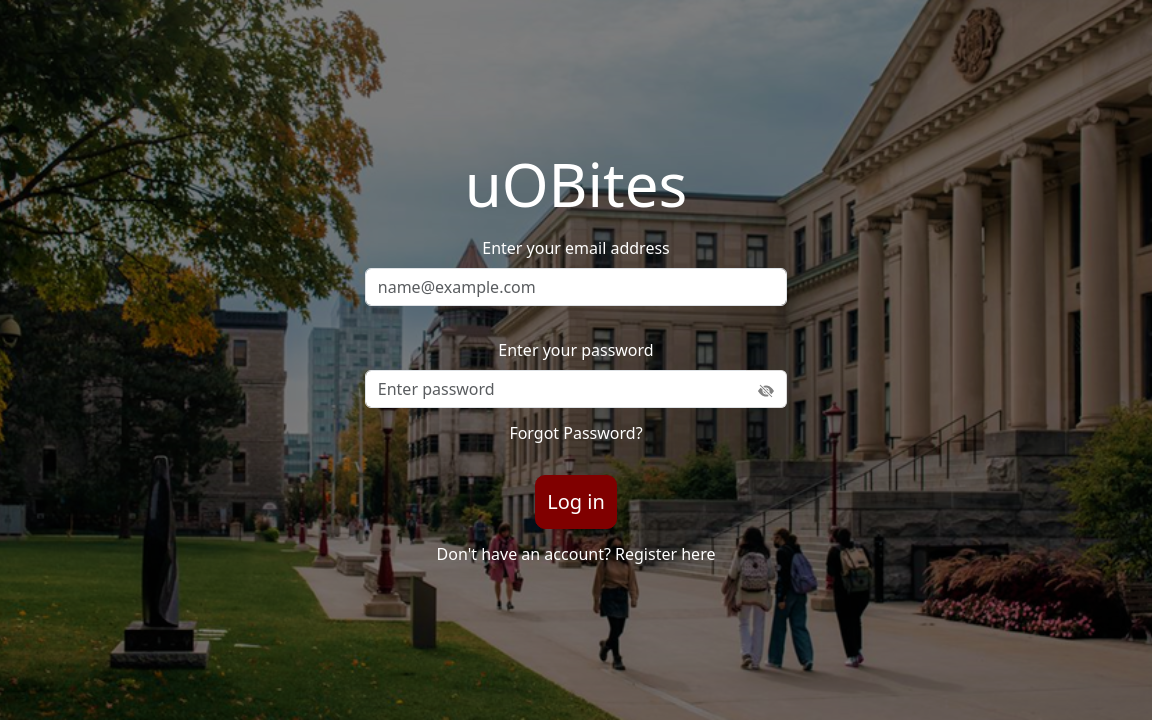
Test: Complete test suite that covers basic authentication functionalities › should click Forgot Password from the login page
Click the heading "Forgot Password?" at (576,434), box [509, 424, 642, 443]
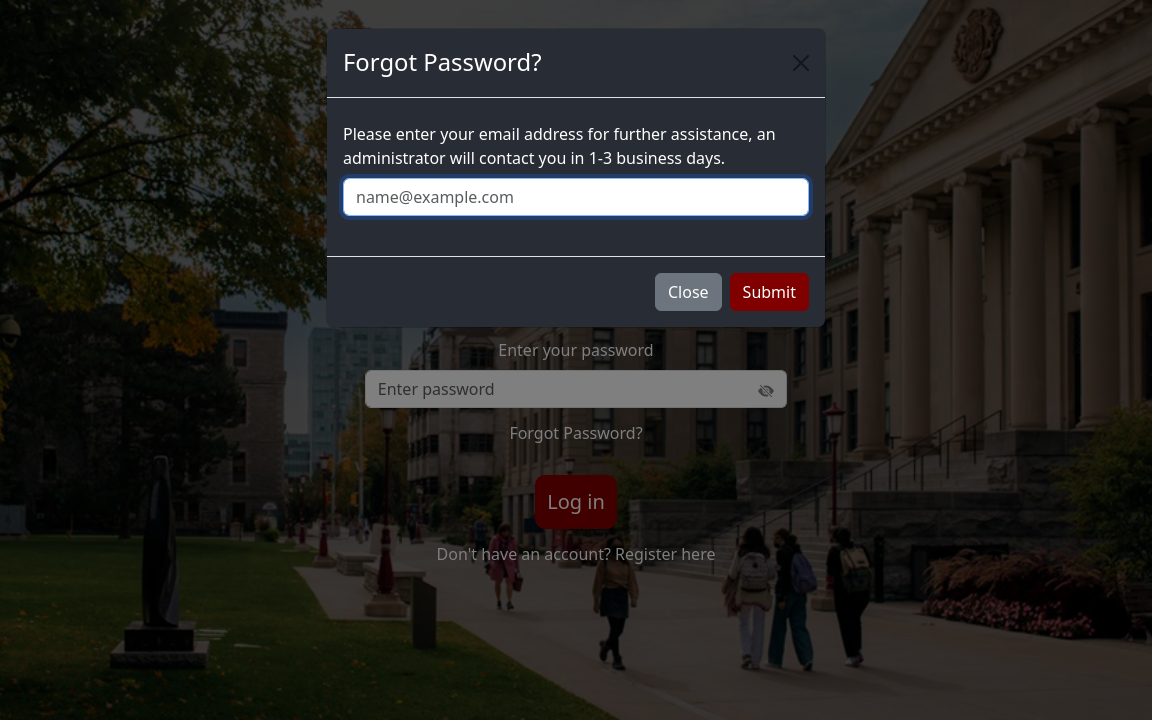
Result: the element that starts with "Forgot Password?" is shown at [326, 28, 826, 328]
Type "fake@gmail.com" into the field with id "modalEmail" at (576,197), box [343, 178, 809, 216]
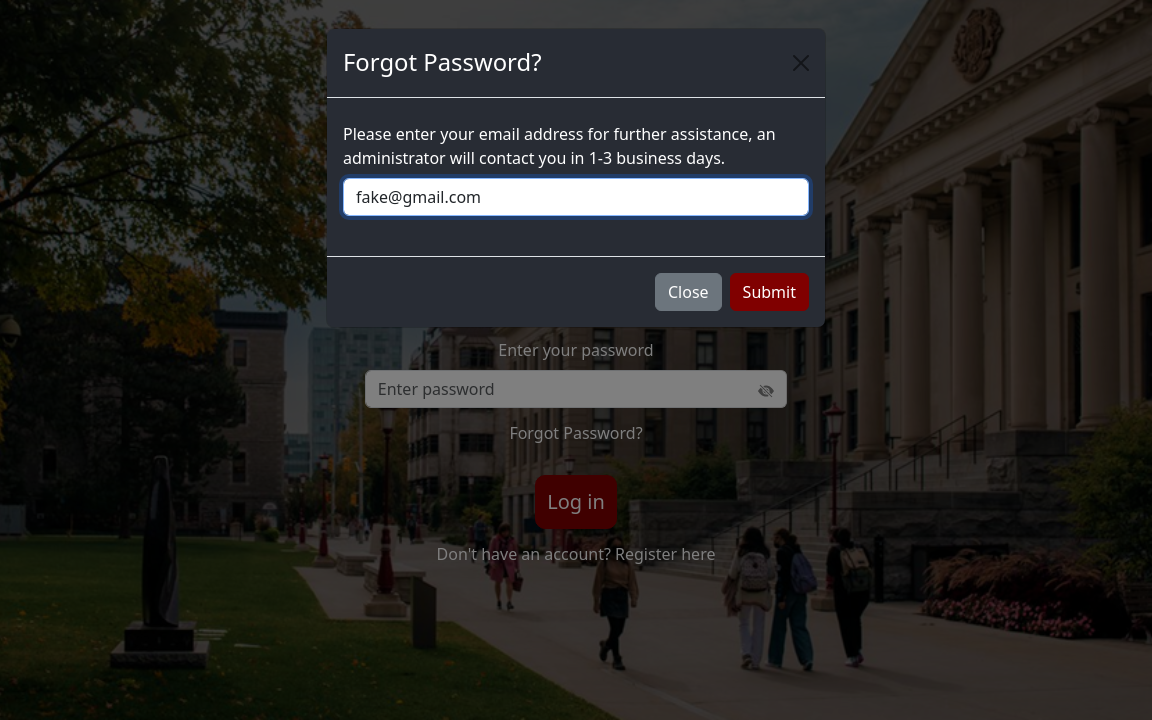
Click the button "Submit" at (770,292), box [730, 273, 809, 311]
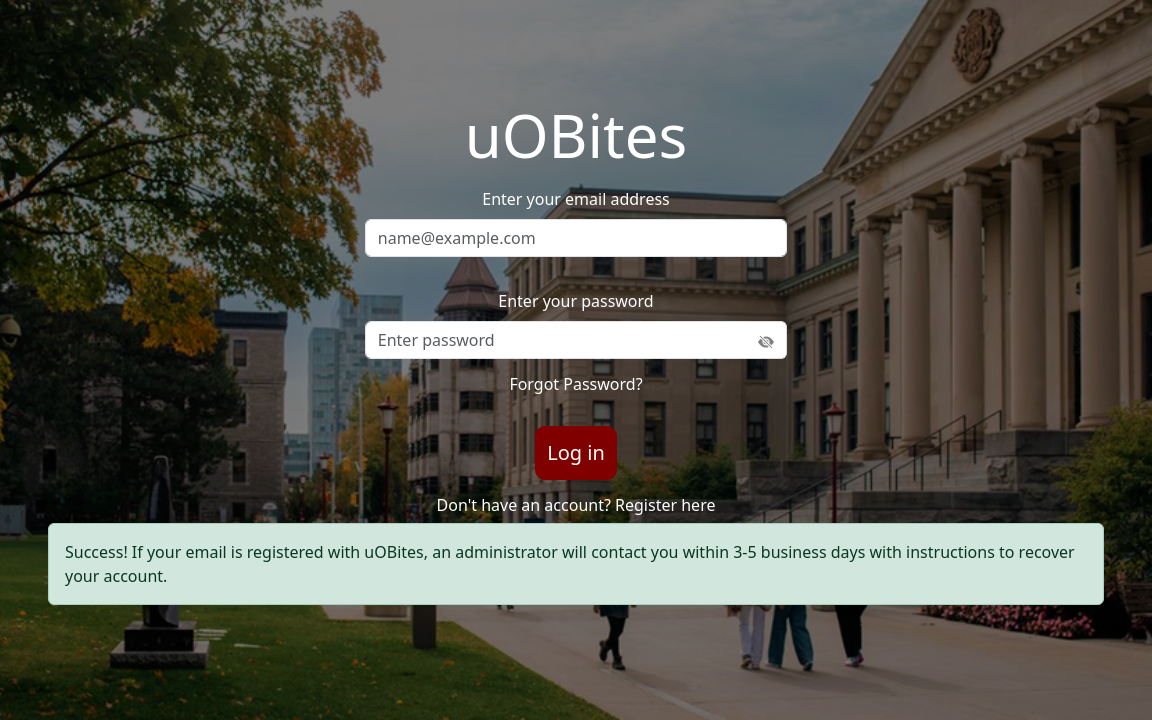
Result: the text "Success!" is shown at [65, 541, 1075, 587]
